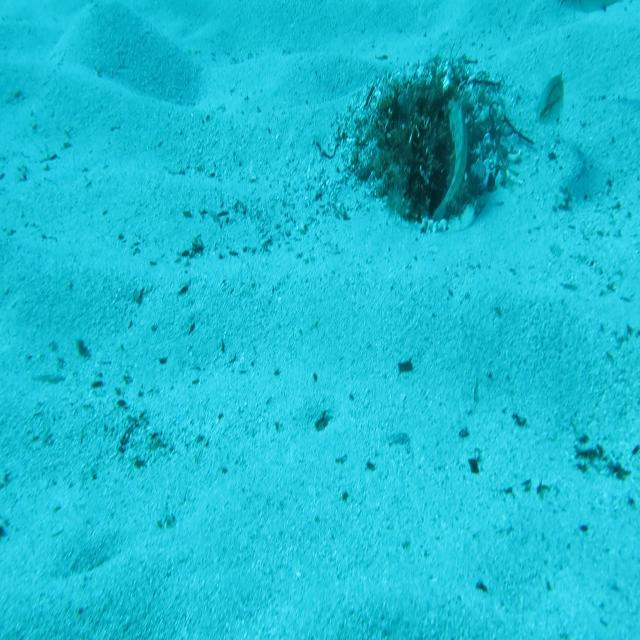FAN: (432, 95, 468, 224)
core_nest: (401, 97, 453, 132)
female: (534, 69, 564, 128), (559, 0, 627, 16)
nest: (334, 43, 524, 241)
vegetation: (572, 425, 630, 482), (397, 356, 412, 376), (315, 410, 328, 430)
